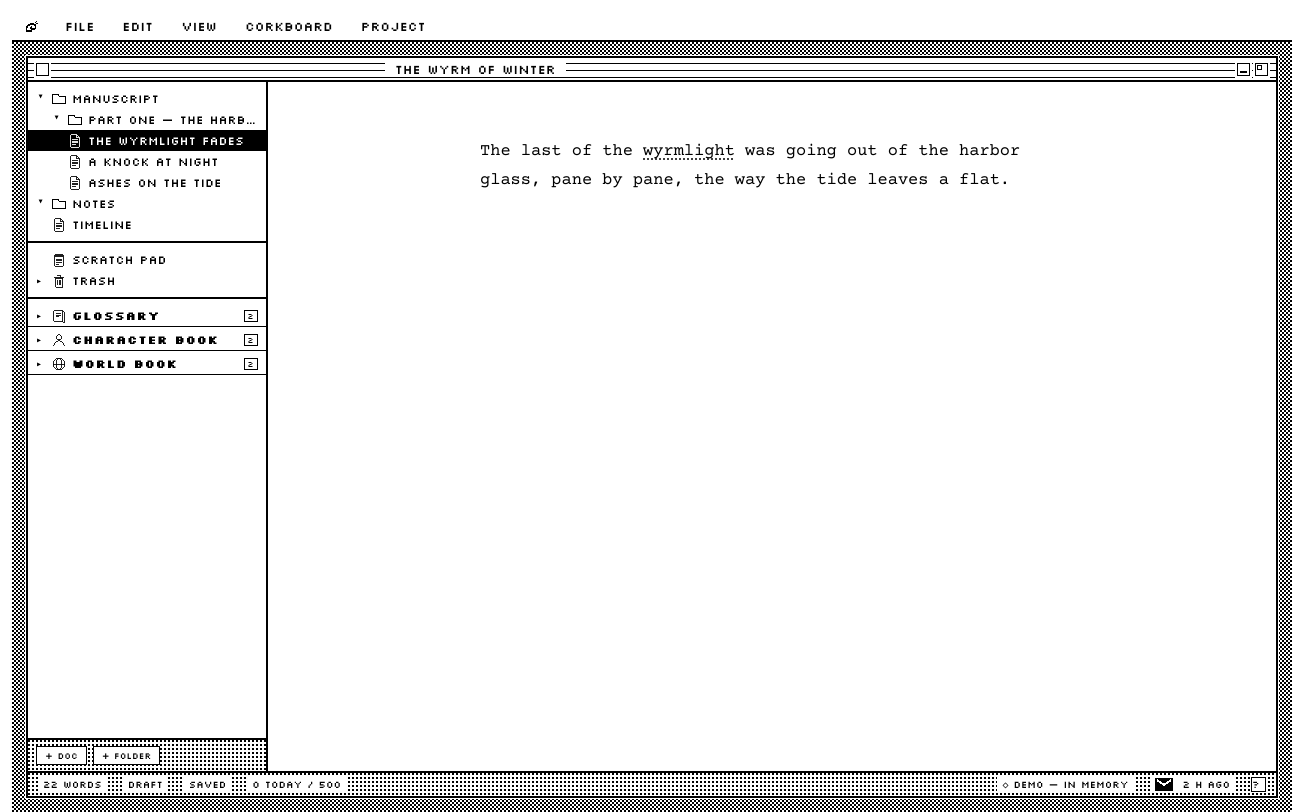
Test: guided help › is off until asked for, and the mode says so while it is on
Click the button with class "help-toggle" at (1258, 784), box [1251,777,1266,792]
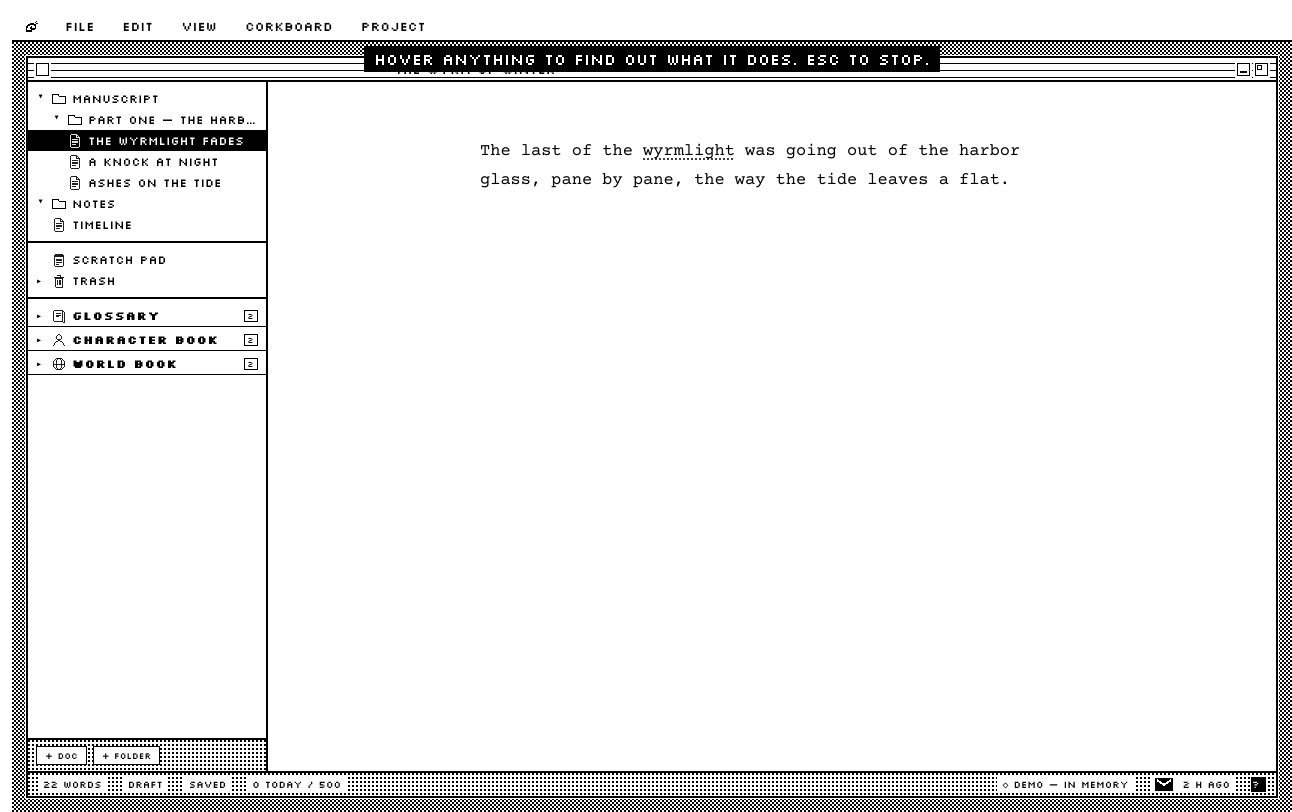
Expected: the message "Hover anything to find out what it does. Esc to stop." is shown, [364,46,940,72]
